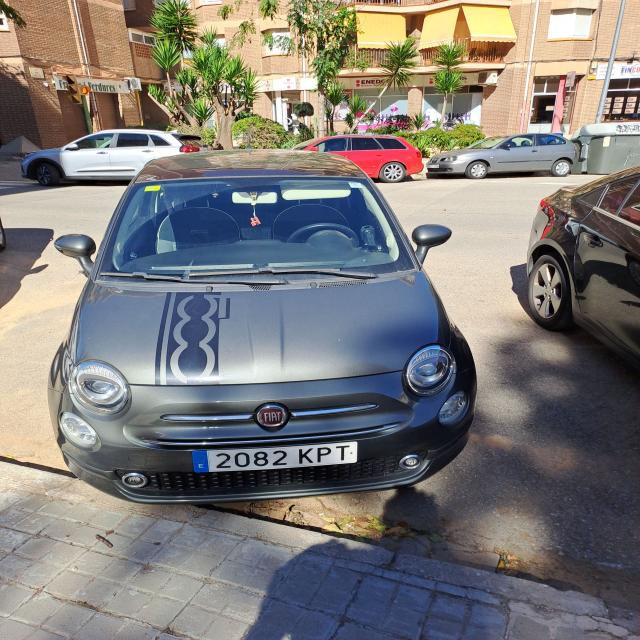license_plate-34Td: (193, 441, 358, 471)
